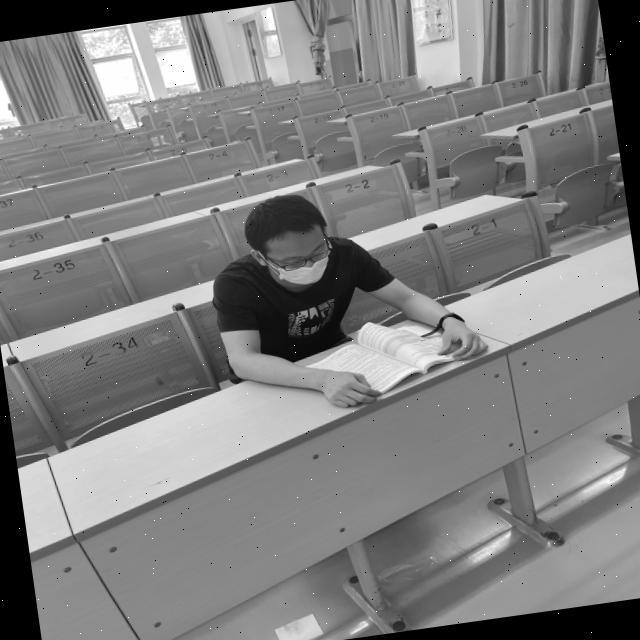study: (199, 171, 490, 422)
